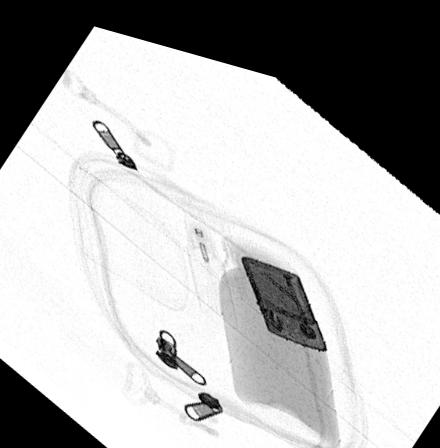Lighter: (240, 241, 328, 333)
